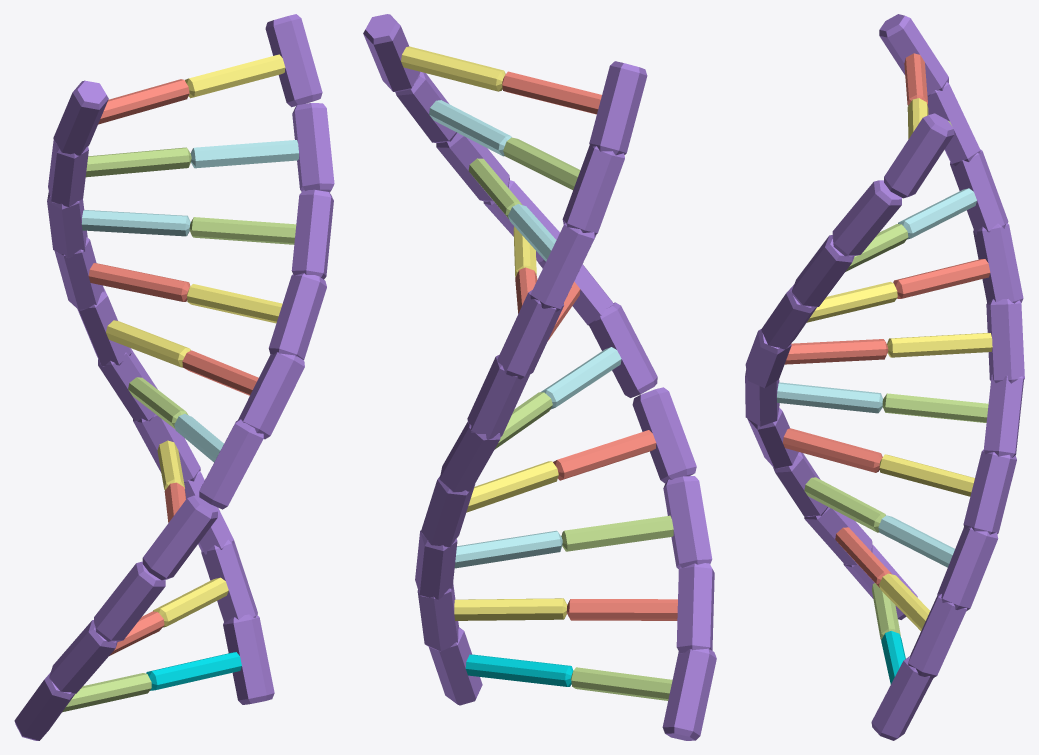
The model's file is DNA.glb.
3 views of the same model, side by side, from view 1: azimuth 30°, elevation 25°; view 2: azimuth 150°, elevation 25°; view 3: azimuth 270°, elevation 25° (orthographic). The views are drawn at different scales.
Parts seen in each view (by area): view 1: group98267956, group1918272623, group1890997749, group816999805, group1941224218, group1916454902, group1692922274, group64402491, group905627815, group80703863, group1355464784, group543773821 (+8 smaller); view 2: group583171219, group1184130097, group500574630, group1692922274, group1100175594, group64402491, group1355464784, group1890997749, group1941224218, group679215435, group543773821, group1347056512 (+8 smaller); view 3: group98256001, group1347056512, group1440525040, group80703863, group679215435, group905627815, group543773821, group1916454902, group1890997749, group500574630, group1355464784, group816999805 (+8 smaller).
Boxes of the visible parts, x1,y1,x2,y2 form: group98267956: [190, 103, 334, 192]; group1918272623: [189, 189, 333, 279]; group1890997749: [185, 14, 322, 107]; group816999805: [187, 273, 326, 359]; group1941224218: [146, 614, 274, 704]; group1916454902: [182, 350, 304, 439]; group1692922274: [53, 79, 189, 155]; group64402491: [48, 139, 191, 207]; group905627815: [47, 191, 190, 258]; group80703863: [54, 237, 190, 310]; group1355464784: [174, 413, 263, 509]; group543773821: [153, 539, 257, 627]; group583171219: [571, 648, 716, 740]; group1184130097: [561, 476, 712, 569]; group500574630: [553, 387, 696, 483]; group1692922274: [502, 61, 647, 155]; group1100175594: [566, 563, 714, 653]; group64402491: [503, 137, 624, 234]; group1355464784: [540, 302, 657, 409]; group1890997749: [363, 14, 505, 92]; group1941224218: [429, 627, 573, 705]; group679215435: [415, 530, 562, 599]; group543773821: [417, 583, 567, 651]; group1347056512: [421, 461, 558, 547]; group98256001: [887, 299, 1024, 383]; group1347056512: [879, 450, 1016, 534]; group1440525040: [882, 374, 1023, 457]; group80703863: [893, 222, 1023, 303]; group679215435: [878, 515, 998, 611]; group905627815: [898, 149, 1008, 239]; group543773821: [879, 573, 967, 678]; group1916454902: [745, 329, 888, 388]; group1890997749: [884, 98, 954, 198]; group500574630: [747, 408, 882, 472]; group1355464784: [745, 369, 882, 426]; group816999805: [761, 281, 897, 349].
Size of the model in its own units: 1.38 by 2.92 by 1.14.
